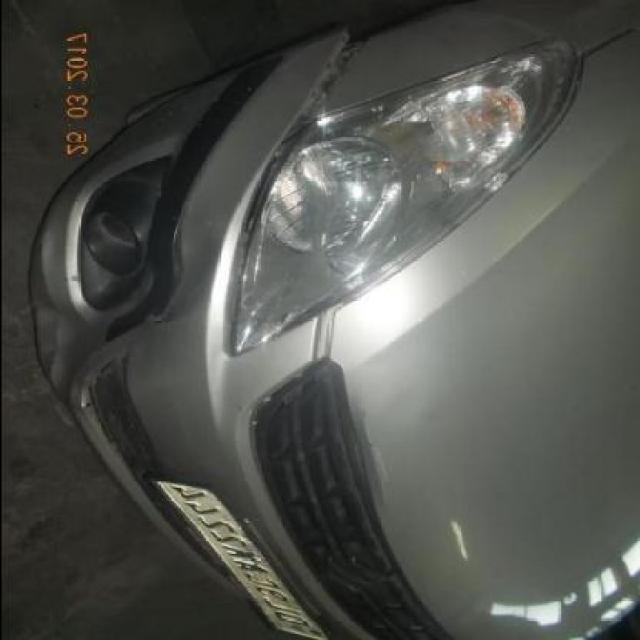damage: (225, 29, 359, 306), (32, 207, 214, 406)
